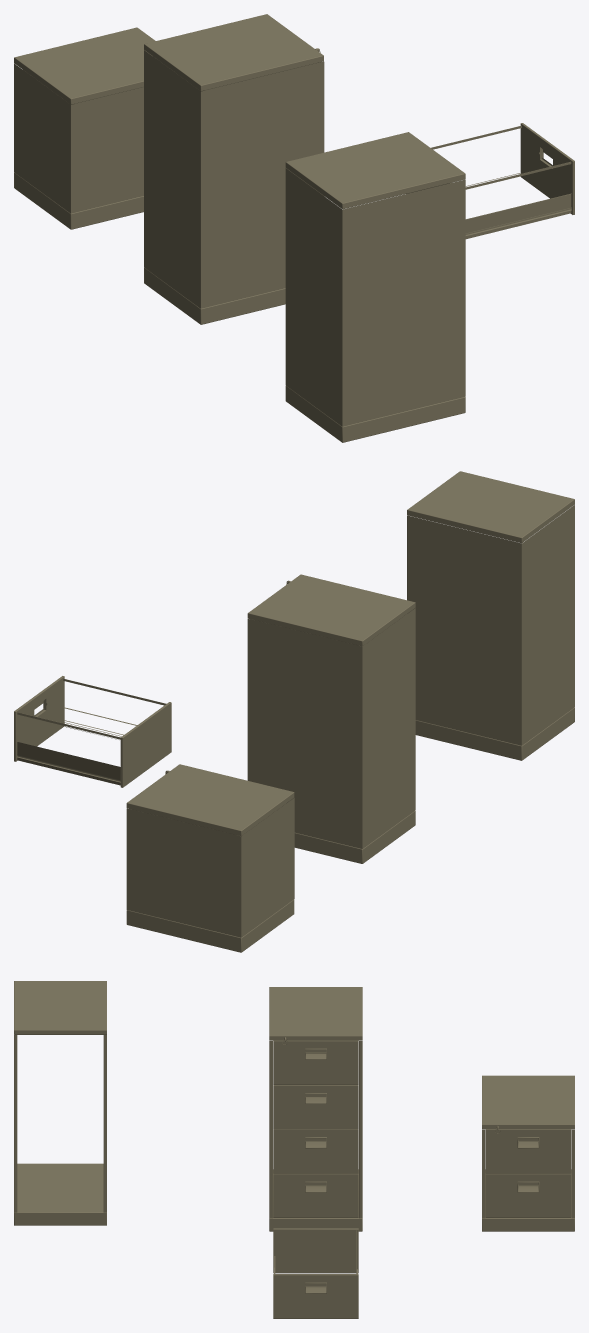
The model's file is filing.glb.
3 views of the same model, one above another, from view 1: azimuth 30°, elevation 25°; view 2: azimuth 150°, elevation 25°; view 3: azimuth 270°, elevation 25° (orthographic). The views are drawn at different scales.
Parts seen in each view (by area): view 1: Cube, Cube_3, Cube_3_2, box; view 2: Cube, Cube_3, Cube_3_2, box; view 3: Cube, box, Cube_3, Cube_3_2, box_0_2, box_1_2, box_0, box_1, box_2, box_3.
Part boxes in pixels (<box>): Cube: <box>285,132,465,442</box>; Cube_3: <box>144,14,324,324</box>; Cube_3_2: <box>14,27,155,229</box>; box: <box>406,123,574,239</box>; Cube: <box>407,471,574,760</box>; Cube_3: <box>247,574,415,863</box>; Cube_3_2: <box>126,764,294,952</box>; box: <box>14,676,171,787</box>; Cube: <box>14,981,106,1225</box>; box: <box>273,1228,358,1318</box>; Cube_3: <box>269,987,362,1231</box>; Cube_3_2: <box>482,1075,574,1231</box>; box_0_2: <box>485,1173,571,1217</box>; box_1_2: <box>485,1129,571,1173</box>; box_0: <box>273,1173,358,1217</box>; box_1: <box>273,1129,358,1173</box>; box_2: <box>273,1085,358,1129</box>; box_3: <box>273,1040,358,1084</box>.
Bounding box in the file's own units: 318 × 186 × 482.
